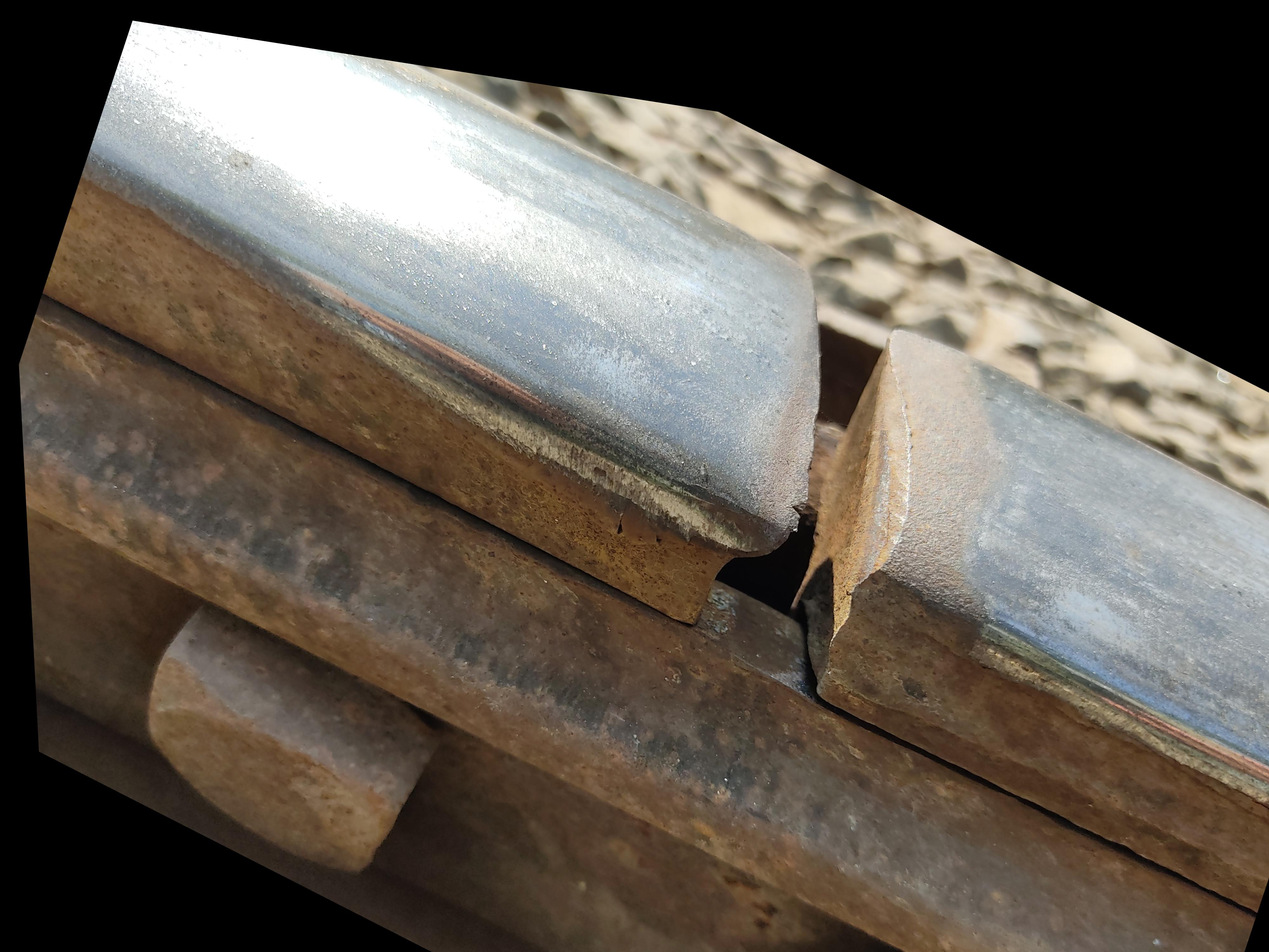person: (737, 90, 1269, 601)
